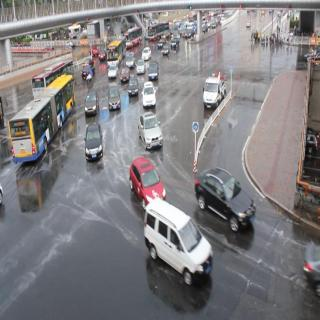BigCar: (11, 76, 76, 162), (125, 26, 144, 45), (107, 41, 122, 64), (147, 23, 168, 36)
Car: (145, 196, 219, 294), (195, 166, 258, 242), (130, 152, 170, 208), (138, 112, 164, 152), (82, 120, 106, 163), (202, 69, 227, 109), (107, 82, 122, 116), (84, 90, 101, 117), (142, 83, 159, 110), (128, 74, 141, 101), (148, 60, 160, 82), (80, 66, 96, 82), (107, 63, 118, 82), (135, 58, 146, 76), (170, 36, 182, 52), (120, 65, 129, 81), (126, 52, 135, 68), (162, 44, 172, 58), (142, 46, 151, 61), (90, 44, 99, 58), (98, 48, 106, 63), (186, 26, 193, 42), (157, 35, 165, 47), (246, 18, 252, 28)
